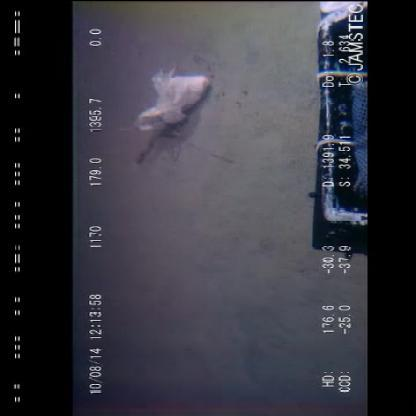Rác: (121, 62, 221, 132)
